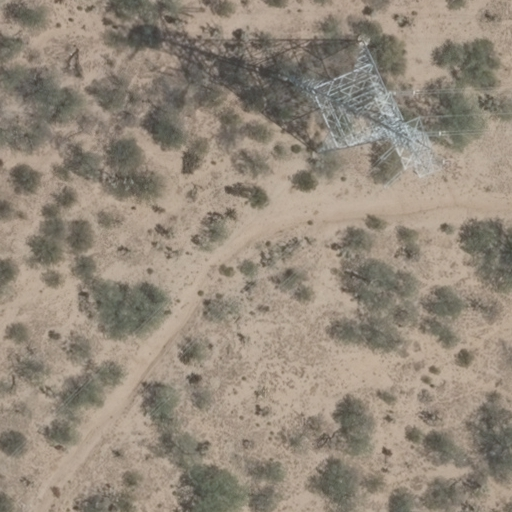TT: (293, 43, 455, 178)
